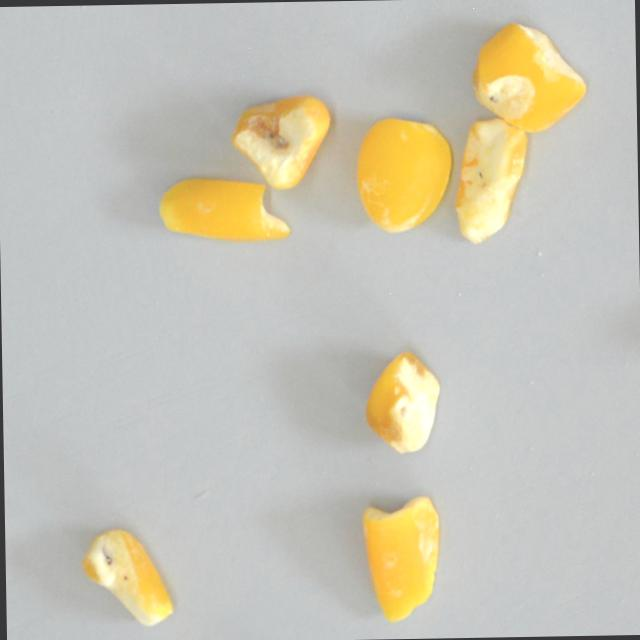dañado: (353, 489, 444, 630), (352, 114, 455, 236), (228, 85, 344, 193), (150, 171, 294, 246), (77, 523, 175, 632), (360, 346, 441, 455)
punto_negro: (462, 16, 589, 132), (449, 114, 531, 251)
